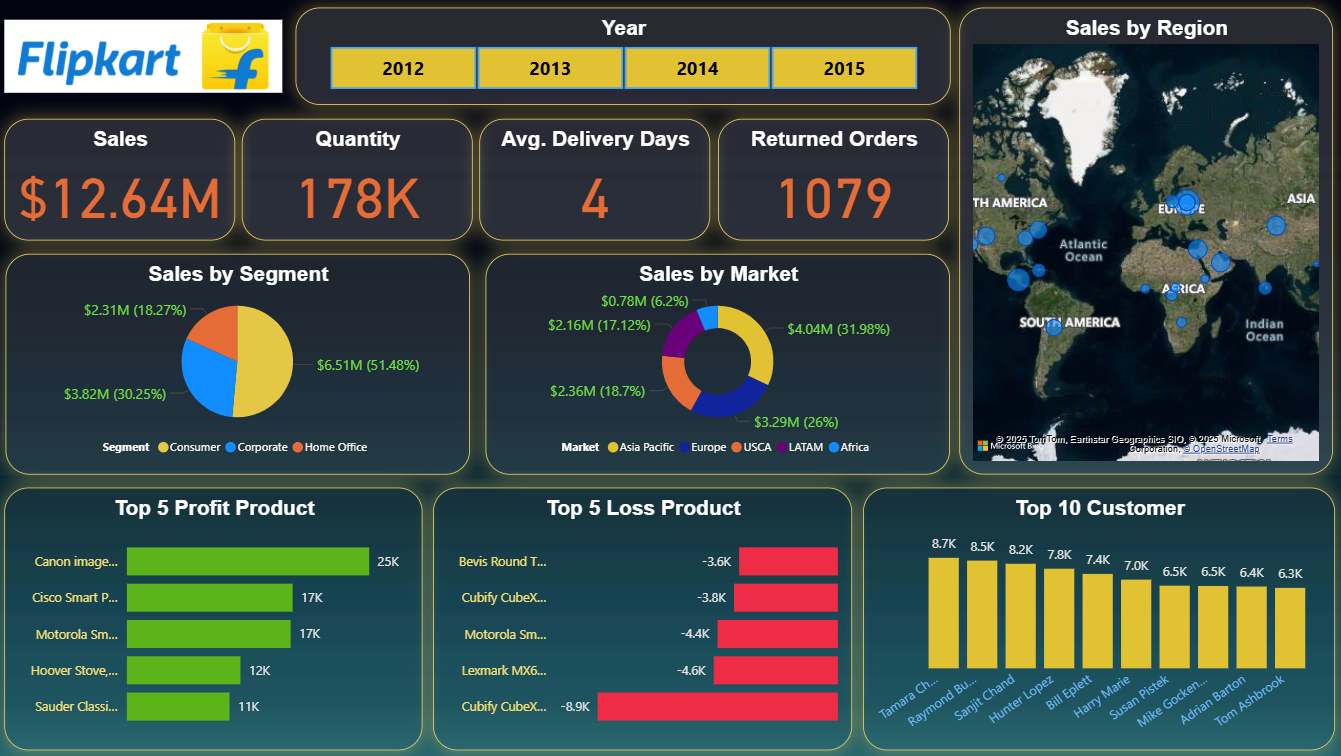

The dashboard page shown, as its layout file describes it:
{"tool":"powerbi","page":{"name":"Page 1","canvas":[1280,720],"ordinal":0},"visuals":[{"type":"slicer","title":"Year","fields":{"Values":["Orders.Year"]},"box":[283.3,7,623.8,92.9],"z":0},{"type":"card","title":"Sales ","fields":{"Values":["Orders.Sales"]},"box":[6.4,113.1,220,116],"z":1000},{"type":"card","title":"Quantity","fields":{"Values":["Orders.Quantity"]},"box":[232.6,112.8,220.2,116],"z":2000},{"type":"card","title":"Avg. Delivery Days","fields":{"Values":["Orders.Delivery Days"]},"box":[458.8,112.8,220.2,116],"z":3000},{"type":"card","title":"Returned Orders","fields":{"Values":["Returns.Returned Order"]},"box":[686.2,112.8,220.2,116],"z":4000},{"type":"pieChart","title":"Sales by Segment","fields":{"Category":["Orders.Segment"],"Y":["Orders.Sales"]},"box":[6.9,241.2,442,210],"z":5000},{"type":"donutChart","title":"Sales by Market","fields":{"Category":["Orders.Market"],"Y":["Orders.Sales"]},"box":[463.8,241.5,442.6,210],"z":6000},{"type":"map","title":"Sales by Region","fields":{"Category":["Orders.Region"],"Size":["Orders.Sales"]},"box":[916.1,6.9,355.9,445],"z":7000},{"type":"barChart","title":"Top 5 Profit Product","fields":{"Category":["Orders.Product Name"],"Y":["Orders.Profit"]},"box":[6.4,464.2,398.6,250],"z":8000},{"type":"barChart","title":"Top 5 Loss Product ","fields":{"Category":["Orders.Product Name"],"Y":["Orders.Profit"]},"box":[414.3,464.3,398.8,250],"z":9000},{"type":"columnChart","title":"Top 10 Customer ","fields":{"Category":["Orders.Customer Name"],"Y":["Orders.Profit"]},"box":[823.6,464.2,449.6,250.4],"z":10000},{"type":"image","box":[1.4,4.1,274.5,99.3],"z":11000}]}

Visuals, with their boxes in screenshot pixels (x1, y1, x2, y2), scaled from the page's 1280x720 canvas onto the 1341x756 screenshot:
"Year" slicer: <region>297, 7, 950, 105</region>
"Sales " card: <region>7, 119, 237, 241</region>
"Quantity" card: <region>244, 118, 474, 240</region>
"Avg. Delivery Days" card: <region>481, 118, 711, 240</region>
"Returned Orders" card: <region>719, 118, 950, 240</region>
"Sales by Segment" pieChart: <region>7, 253, 470, 474</region>
"Sales by Market" donutChart: <region>486, 254, 950, 474</region>
"Sales by Region" map: <region>960, 7, 1333, 474</region>
"Top 5 Profit Product" barChart: <region>7, 487, 424, 750</region>
"Top 5 Loss Product " barChart: <region>434, 488, 852, 750</region>
"Top 10 Customer " columnChart: <region>863, 487, 1334, 750</region>
image: <region>1, 4, 289, 109</region>
